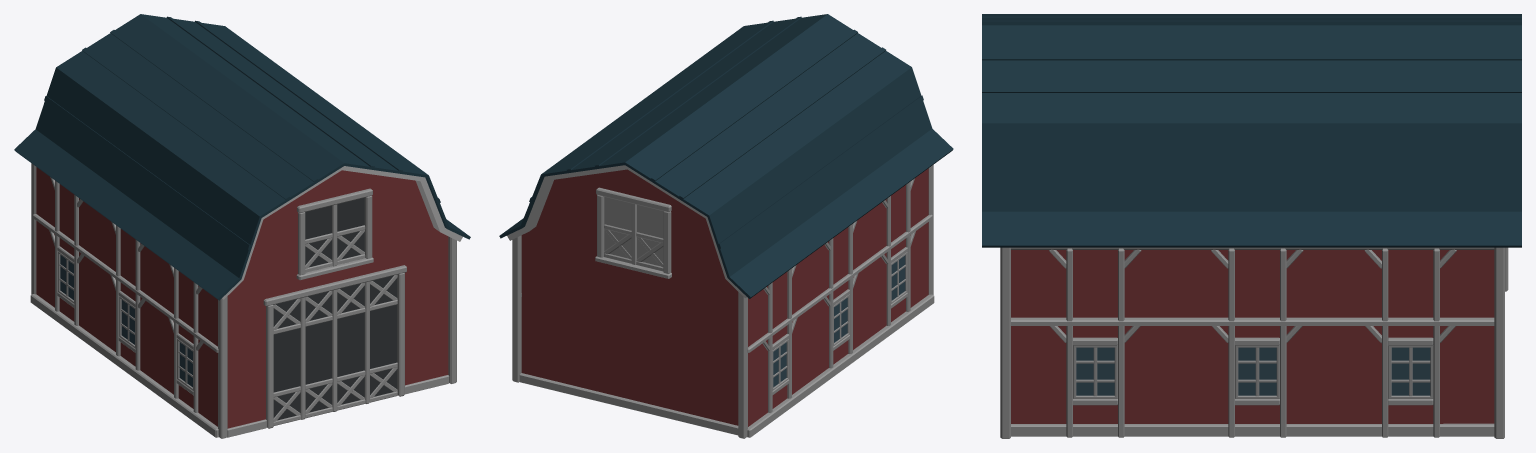
File: farmbuilding_07.glb
3 views of the same model, side by side, from view 1: azimuth 30°, elevation 25°; view 2: azimuth 150°, elevation 25°; view 3: azimuth 270°, elevation 25° (orthographic). The views are drawn at different scales.
Parts seen in each view (by area): view 1: farmbuilding_07; view 2: farmbuilding_07; view 3: farmbuilding_07.
Part boxes in pixels (x1,y1,x2,y2): farmbuilding_07: (14, 14, 470, 438); farmbuilding_07: (499, 14, 953, 438); farmbuilding_07: (982, 14, 1521, 438).
Size of the model in its own units: 8.92 by 8.57 by 12.44.
1 material, 1 textured.
